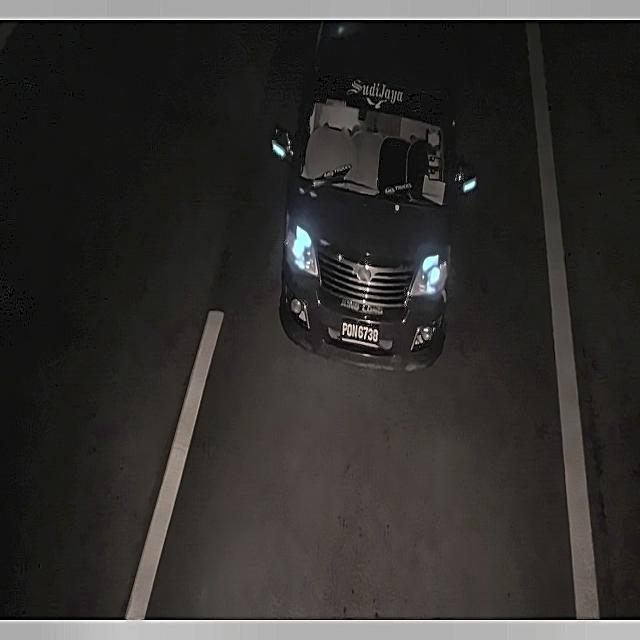car: (338, 318, 386, 352)
